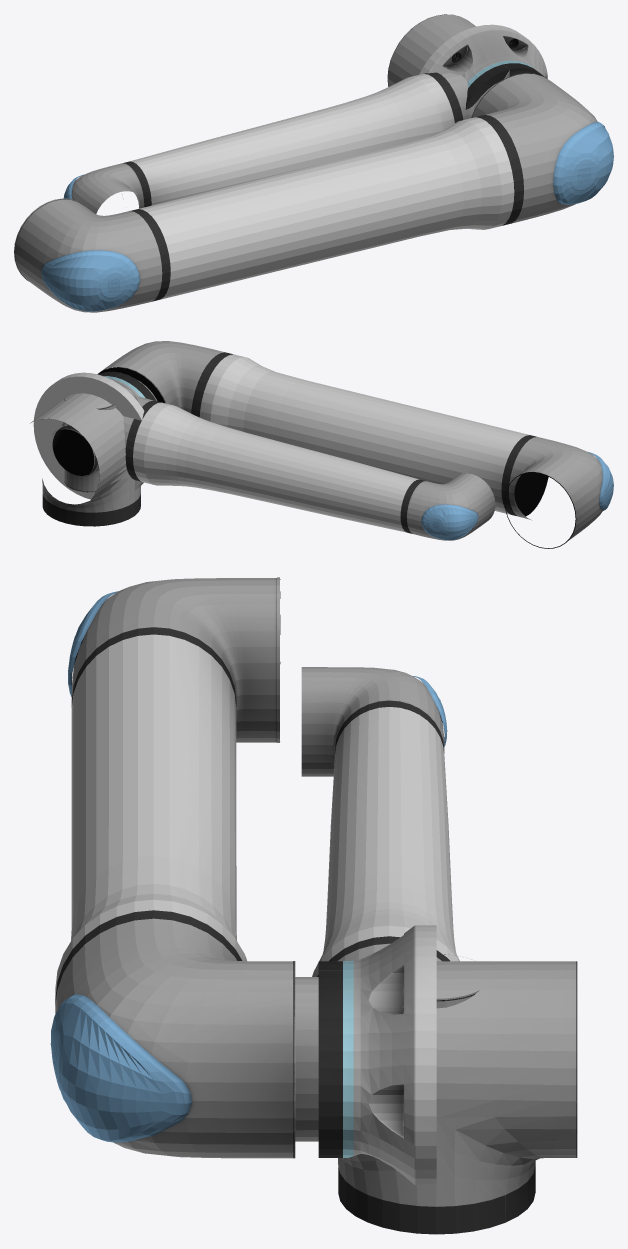
3 views of the same model, one above another, from view 1: azimuth 30°, elevation 25°; view 2: azimuth 150°, elevation 25°; view 3: azimuth 270°, elevation 25° (orthographic). The views are drawn at different scales.
Parts seen in each view (by area): view 1: upperarm, forearm, base, shoulder; view 2: upperarm, forearm, shoulder, base, wrist3, wrist1; view 3: upperarm, forearm, shoulder, base.
Boxes of the visible parts, <box> form: upperarm: <box>14,73,613,312</box>; forearm: <box>63,72,505,213</box>; base: <box>419,24,547,109</box>; shoulder: <box>387,14,475,86</box>; upperarm: <box>97,341,613,548</box>; forearm: <box>62,380,495,540</box>; shoulder: <box>30,393,140,526</box>; base: <box>33,371,156,499</box>; wrist3: <box>52,425,97,475</box>; wrist1: <box>53,425,99,492</box>; upperarm: <box>50,577,295,1158</box>; forearm: <box>295,667,459,1141</box>; shoulder: <box>338,961,577,1234</box>; base: <box>318,925,436,1184</box>.
Bounding box in the file's own units: 1.06 × 0.2565 × 0.4799.
Materials: 1 (1 with a texture image).
